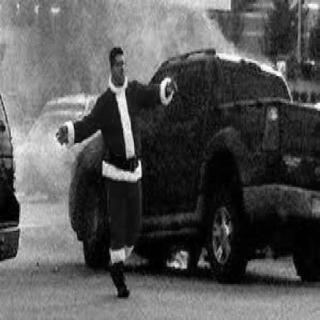Fire: (92, 24, 196, 82), (165, 232, 192, 274)
